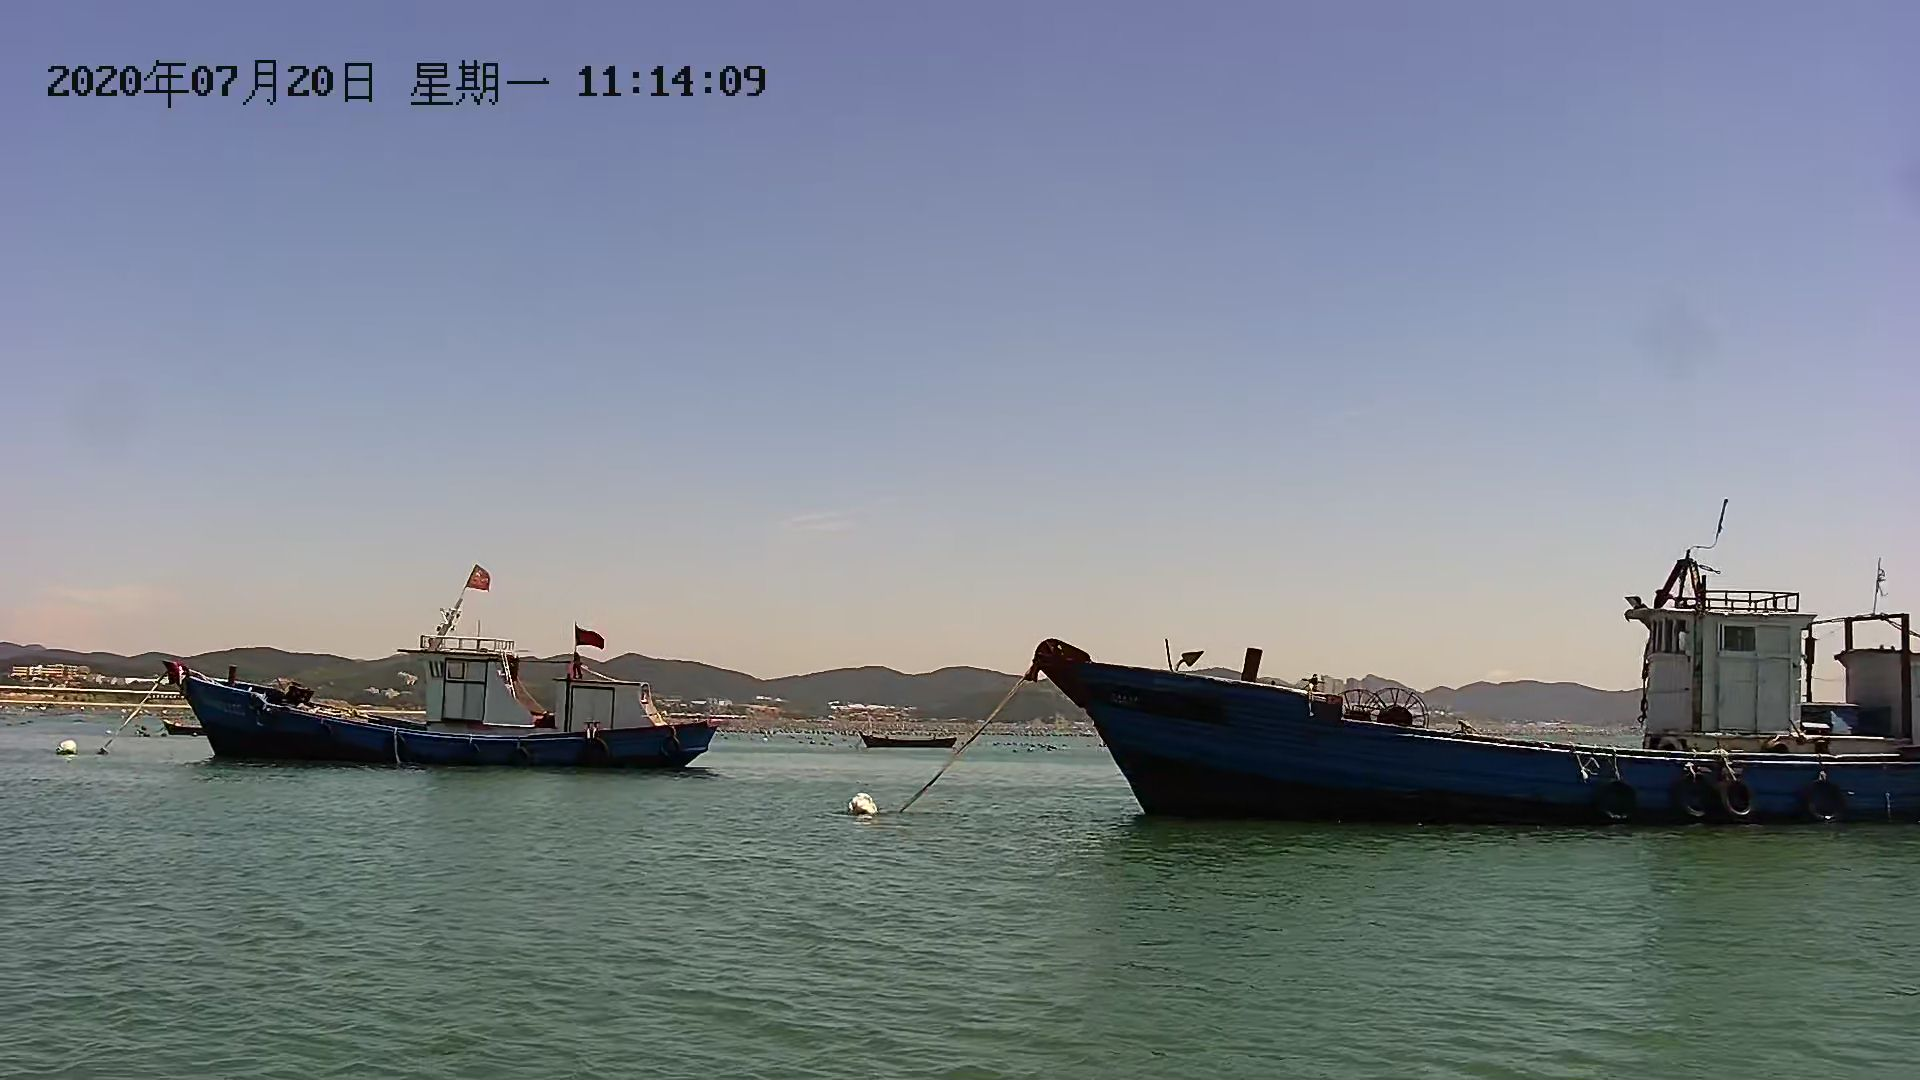ball: (849, 794, 885, 825), (58, 741, 88, 760)
boat: (1023, 603, 1920, 833), (158, 625, 728, 778), (849, 728, 964, 753)
